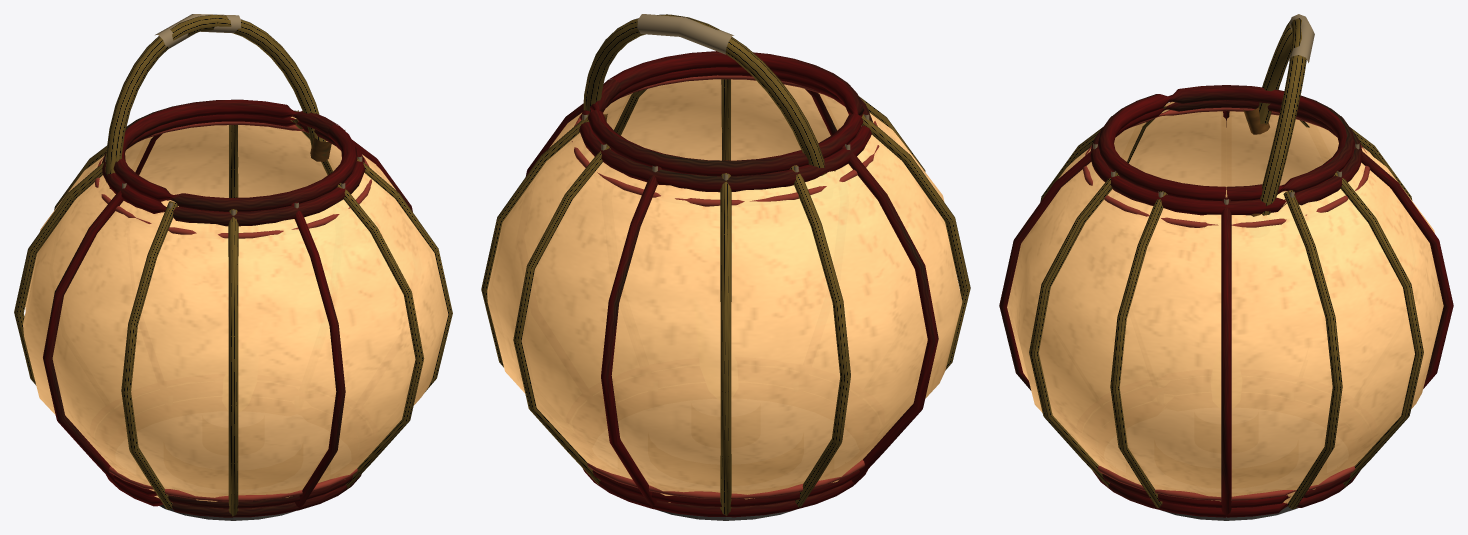
File: hand_lantern.glb
3 renders of one model, left to right at view 1: azimuth 30°, elevation 25°; view 2: azimuth 150°, elevation 25°; view 3: azimuth 270°, elevation 25°, orthographic. The views are drawn at different scales.
Visible parts, largest first — view 1: Body, Art_BurntLacquer_Body, Art_BambooRind_Body, Art_BambooRind, Art_CinnabarBinding_Body, Art_FadedThread; view 2: Body, Art_BurntLacquer_Body, Art_BambooRind_Body, Art_BambooRind, Art_CinnabarBinding_Body, Art_FadedThread; view 3: Body, Art_BurntLacquer_Body, Art_BambooRind_Body, Art_BambooRind, Art_CinnabarBinding_Body, Art_FadedThread.
Boxes of the visible parts, x1=… form: Body: x1=23, y1=116, x2=448, y2=501; Art_BurntLacquer_Body: x1=43, y1=99, x2=412, y2=517; Art_BambooRind_Body: x1=14, y1=119, x2=452, y2=516; Art_BambooRind: x1=105, y1=14, x2=326, y2=182; Art_CinnabarBinding_Body: x1=95, y1=121, x2=371, y2=501; Art_FadedThread: x1=155, y1=14, x2=240, y2=48; Body: x1=487, y1=79, x2=962, y2=502; Art_BurntLacquer_Body: x1=525, y1=51, x2=938, y2=517; Art_BambooRind_Body: x1=481, y1=79, x2=970, y2=515; Art_BambooRind: x1=583, y1=14, x2=826, y2=175; Art_CinnabarBinding_Body: x1=572, y1=75, x2=879, y2=499; Art_FadedThread: x1=637, y1=14, x2=733, y2=54; Body: x1=1007, y1=102, x2=1443, y2=503; Art_BurntLacquer_Body: x1=999, y1=85, x2=1453, y2=517; Art_BambooRind_Body: x1=1029, y1=106, x2=1423, y2=509; Art_BambooRind: x1=1258, y1=18, x2=1306, y2=215; Art_CinnabarBinding_Body: x1=1082, y1=107, x2=1370, y2=500; Art_FadedThread: x1=1289, y1=14, x2=1314, y2=62.
Size of the model in its own units: 0.2262 by 0.249 by 0.2262.
Materials: 8 (4 with a texture image).
